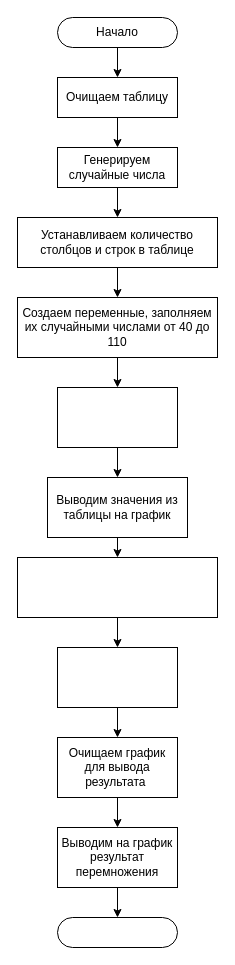
The diagram is 235 pixels wide and 965 high, and some of its shapes have lost their labels. The shapes that lost their labels are listed below. From the top down, each one's centre as x and y in pixels, then its label:
(x=117, y=417): Заполняем таблицу значениями
(x=117, y=587): Находим среднее геометрическое значение в таблице и округляем его
(x=117, y=677): Выводим результат
(x=117, y=932): Конец
